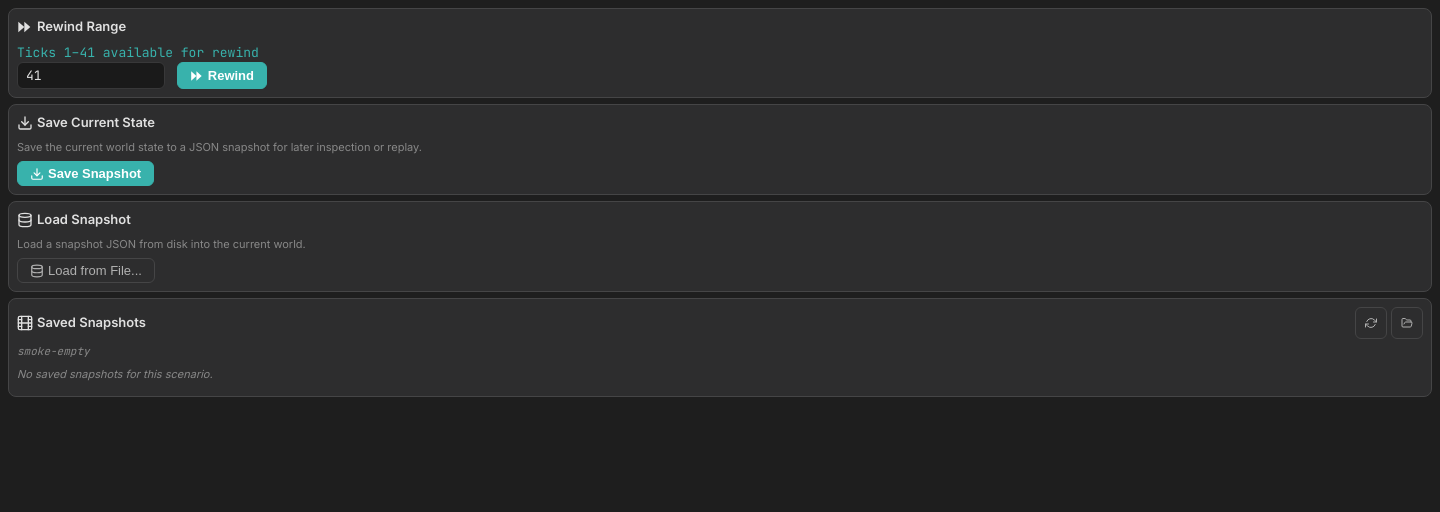
Test: StatePanel › shows an error when the target is not before the current tick
This screenshot has width=1440, height=512.
Replace the text in the number field named "Rewind target tick" with "50" at (91, 76), box [17,62,165,89]
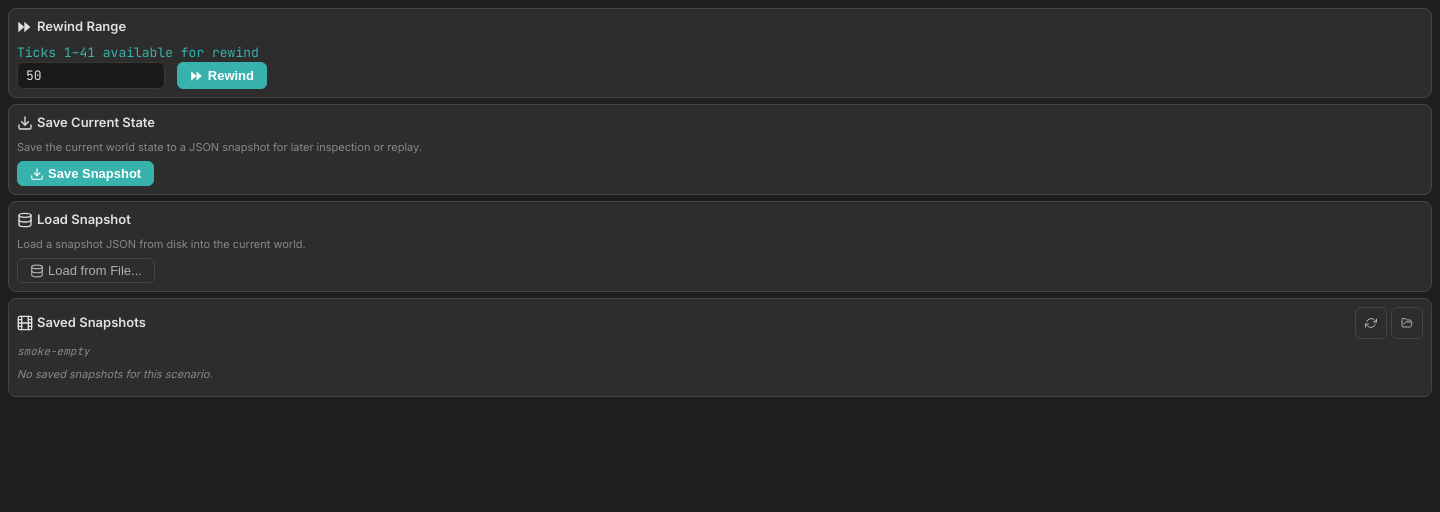
Click the button "Rewind" at (222, 76), box [177,62,267,89]
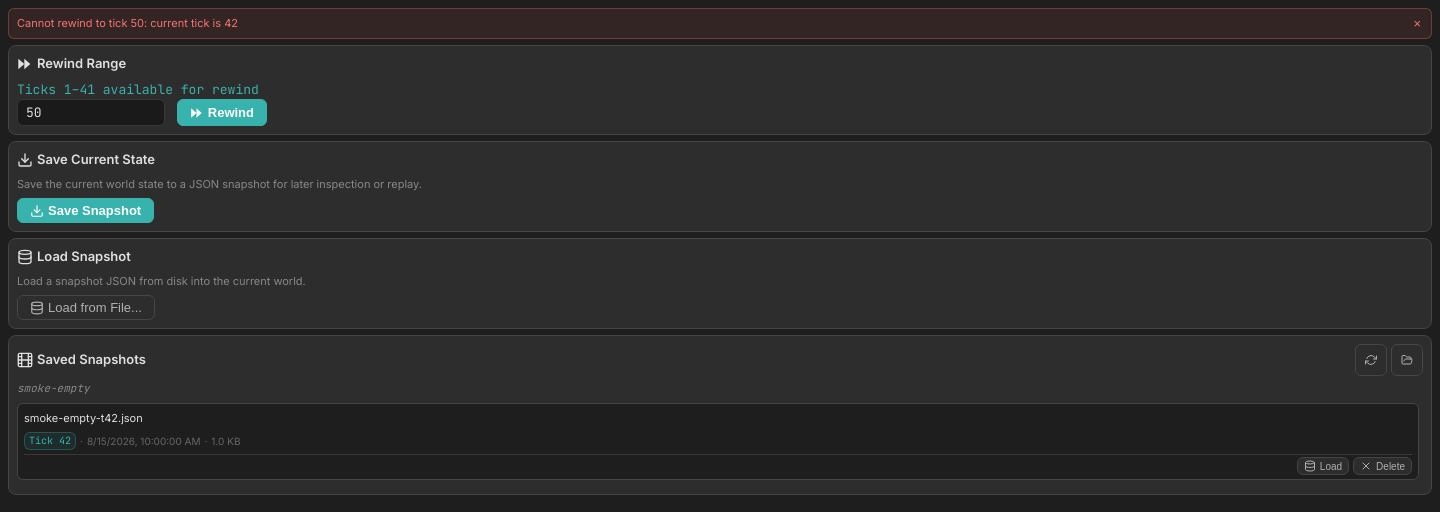
Now the text "Cannot rewind to tick 50: current tick is 42 ×" is shown, box [8,8,1432,39]
